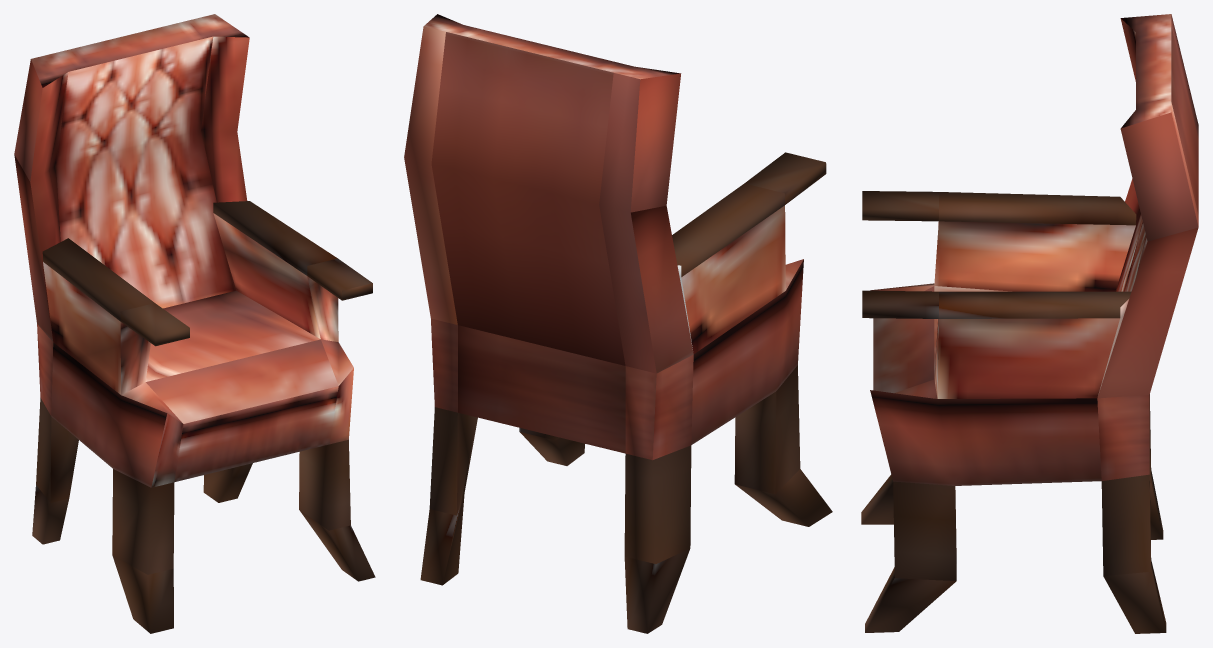
File: Chair.fbx
3 views of the same model, side by side, from view 1: azimuth 30°, elevation 25°; view 2: azimuth 150°, elevation 25°; view 3: azimuth 270°, elevation 25° (orthographic). The views are drawn at different scales.
Parts seen in each view (by area): view 1: DaeteEmuStul; view 2: DaeteEmuStul; view 3: DaeteEmuStul.
Part boxes in pixels (x1=…): DaeteEmuStul: x1=14, y1=14, x2=375, y2=633; DaeteEmuStul: x1=404, y1=14, x2=832, y2=633; DaeteEmuStul: x1=861, y1=14, x2=1198, y2=633.
Size of the model in its own units: 223 by 445 by 262.
